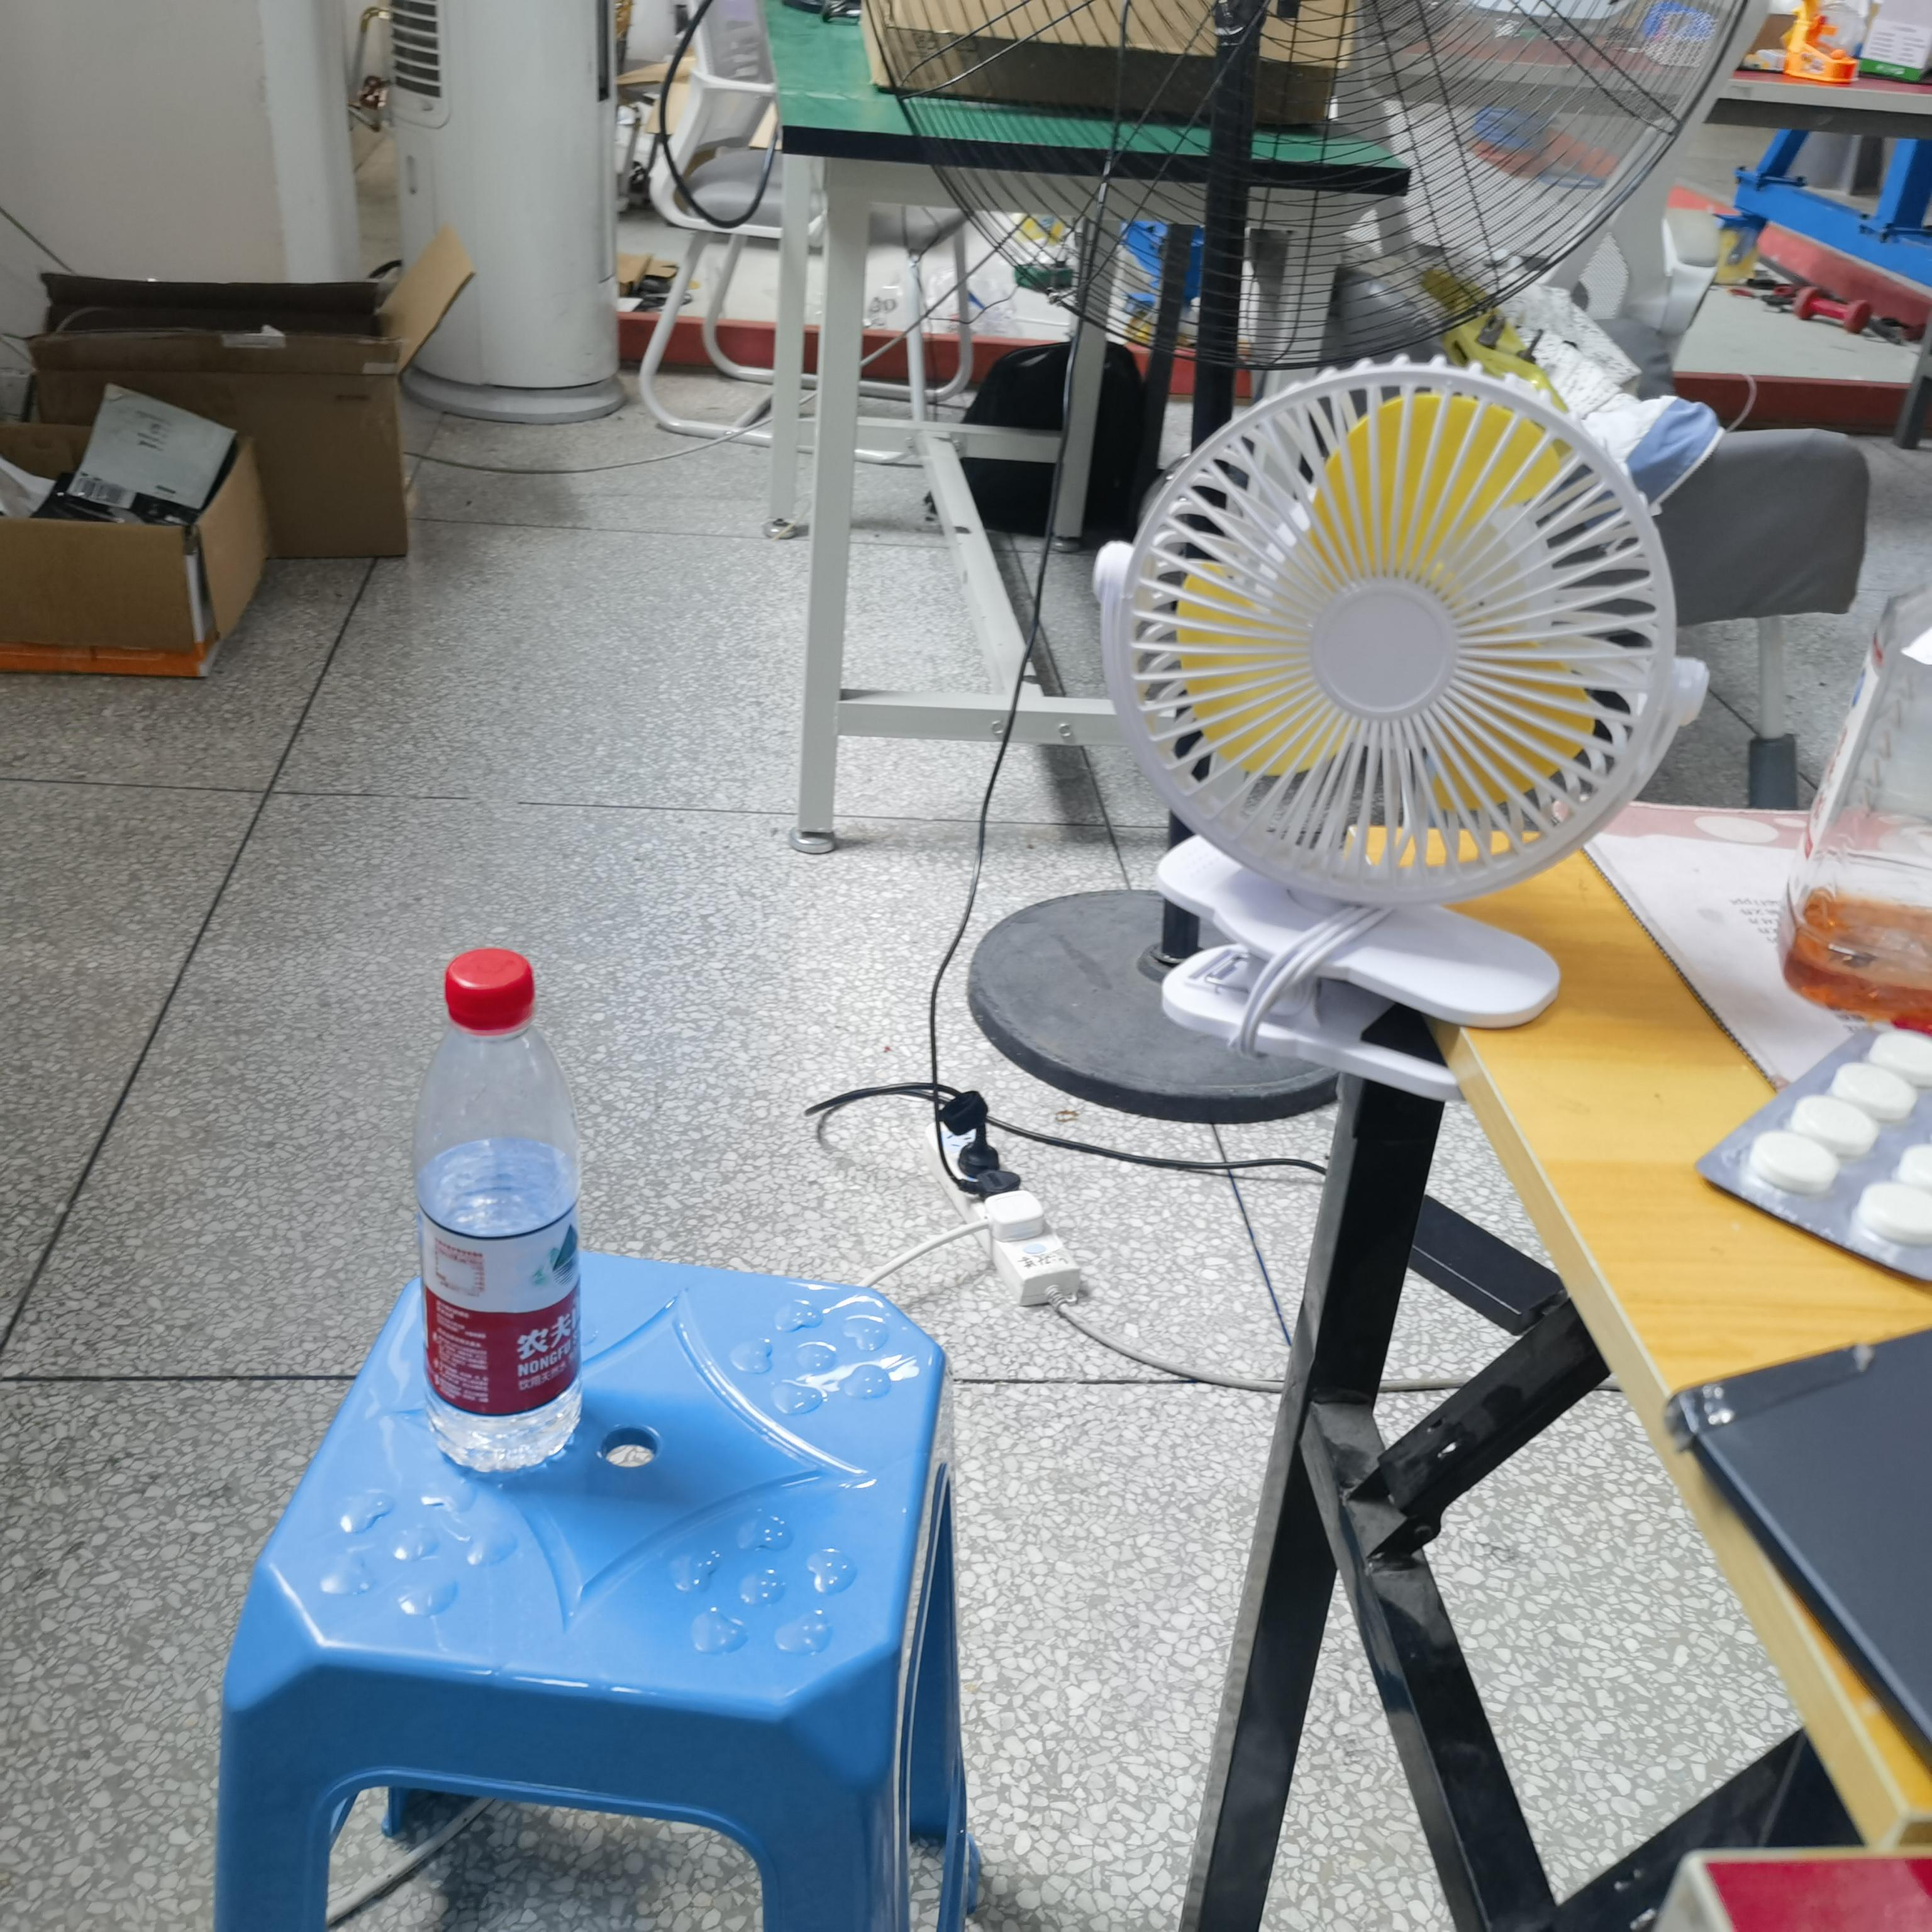bottle: (413, 948, 580, 1472)
fan: (1094, 364, 1707, 1099)
